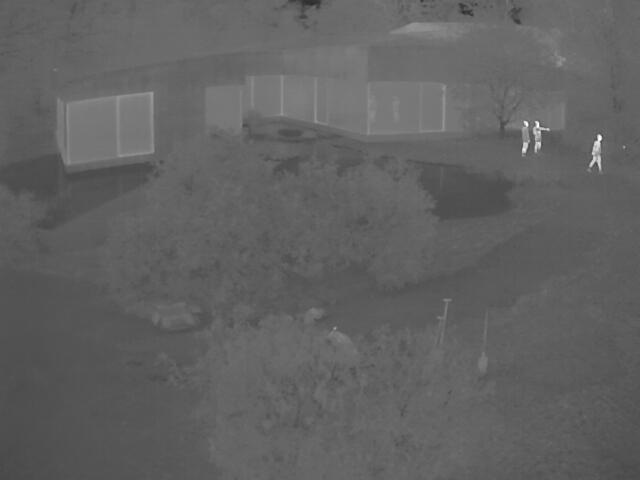person: (586, 133, 603, 173), (531, 120, 549, 153), (519, 119, 528, 156)
